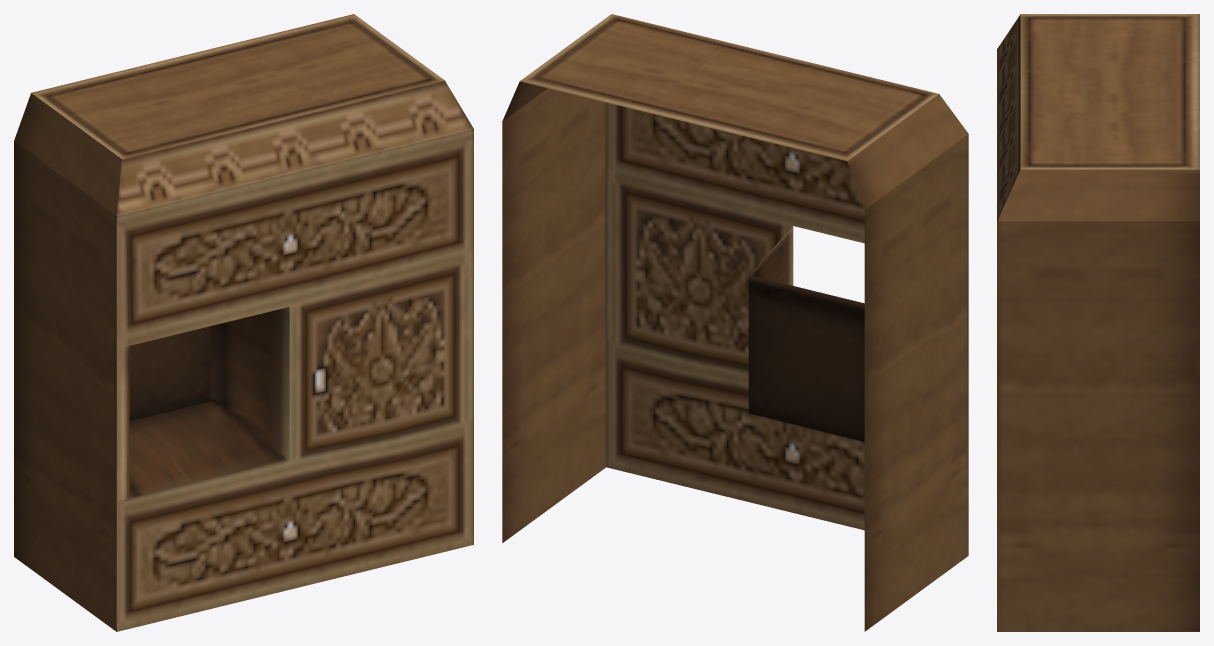
Rendered from temple-cabinet.glb.
3 renders of one model, left to right at view 1: azimuth 30°, elevation 25°; view 2: azimuth 150°, elevation 25°; view 3: azimuth 270°, elevation 25°, orthographic. The views are drawn at different scales.
Parts seen in each view (by area): view 1: 005; view 2: 005; view 3: 005.
Part boxes in pixels (x1=…): 005: x1=14, y1=14, x2=473, y2=631; 005: x1=502, y1=14, x2=968, y2=631; 005: x1=997, y1=14, x2=1199, y2=631.
Bounding box in the file's own units: 0.0352 × 0.0433 × 0.0175.
1 material, 1 textured.
